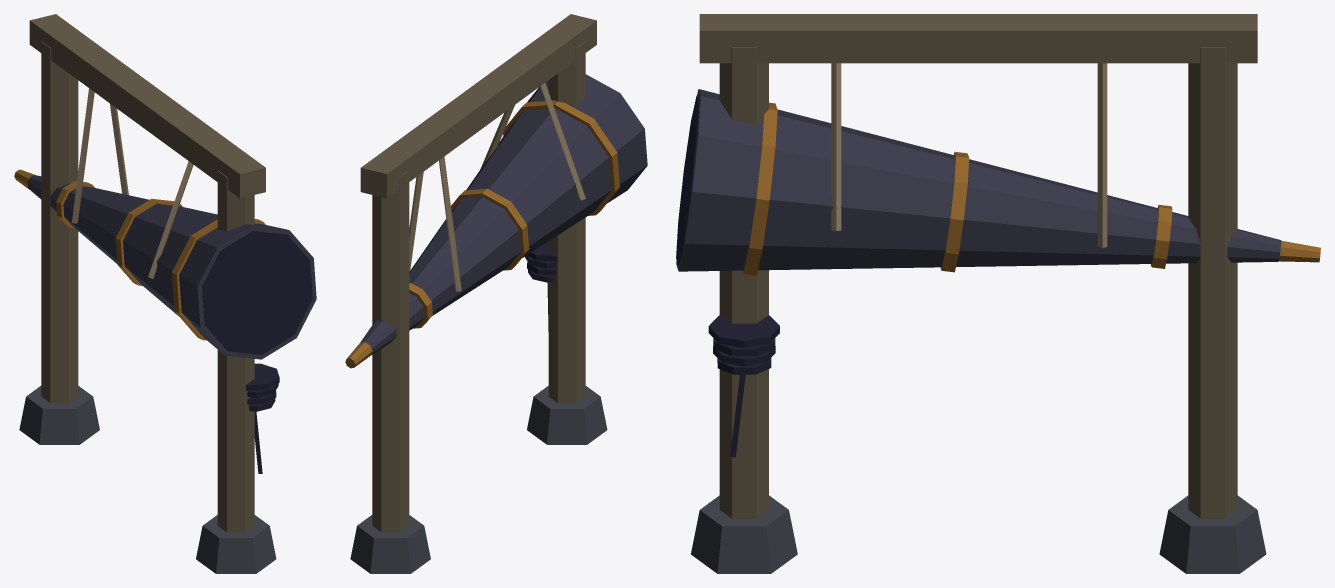
File: answering_horn_open.glb
3 renders of one model, left to right at view 1: azimuth 30°, elevation 25°; view 2: azimuth 150°, elevation 25°; view 3: azimuth 270°, elevation 25°, orthographic. The views are drawn at different scales.
Visible parts, largest first — view 1: driftwood_d50, ink_l12, ink, slate_d40, ember_d40, driftwood_d30, ink_l2; view 2: driftwood_d50, ink_l12, slate_d40, ember_d40, driftwood_d30, ink_l2; view 3: driftwood_d50, ink_l12, slate_d40, ember_d40, driftwood_d30, ink_l2, ink.
Boxes of the visible parts, bbox=[...] form: driftwood_d50: bbox=[29, 14, 265, 532]; ink_l12: bbox=[27, 175, 316, 359]; ink: bbox=[202, 231, 312, 354]; slate_d40: bbox=[19, 386, 276, 573]; ember_d40: bbox=[14, 169, 265, 340]; driftwood_d30: bbox=[72, 88, 193, 278]; ink_l2: bbox=[246, 363, 279, 473]; driftwood_d50: bbox=[360, 14, 596, 532]; ink_l12: bbox=[360, 74, 647, 355]; slate_d40: bbox=[350, 386, 607, 573]; ember_d40: bbox=[345, 100, 619, 368]; driftwood_d30: bbox=[409, 83, 585, 291]; ink_l2: bbox=[525, 241, 557, 331]; driftwood_d50: bbox=[699, 14, 1257, 518]; ink_l12: bbox=[676, 89, 1281, 271]; slate_d40: bbox=[691, 495, 1266, 573]; ember_d40: bbox=[742, 102, 1320, 275]; driftwood_d30: bbox=[831, 63, 1107, 248]; ink_l2: bbox=[708, 315, 779, 457]; ink: bbox=[676, 95, 699, 264].
Bounding box in the file's own units: 0.7989 × 2.63 × 2.89.
